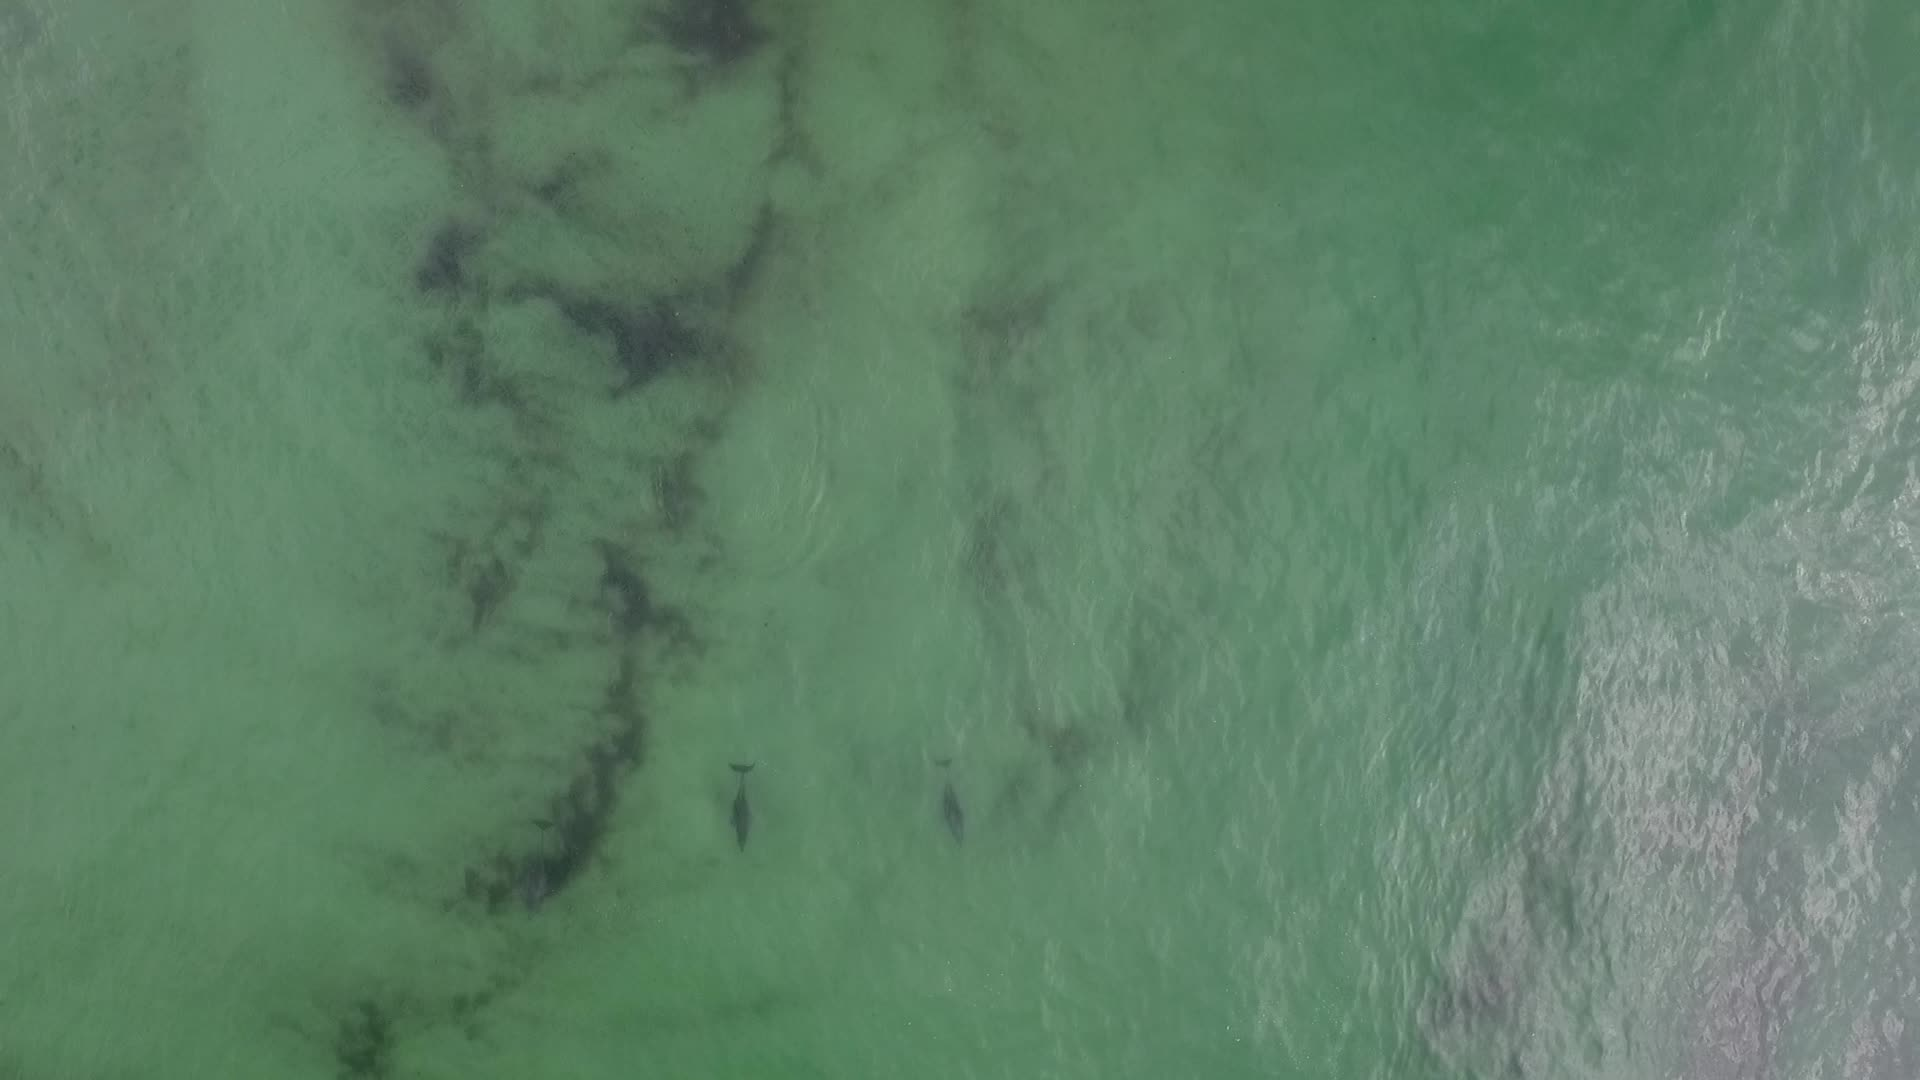dolphin: (705, 750, 774, 856), (928, 738, 990, 855)
